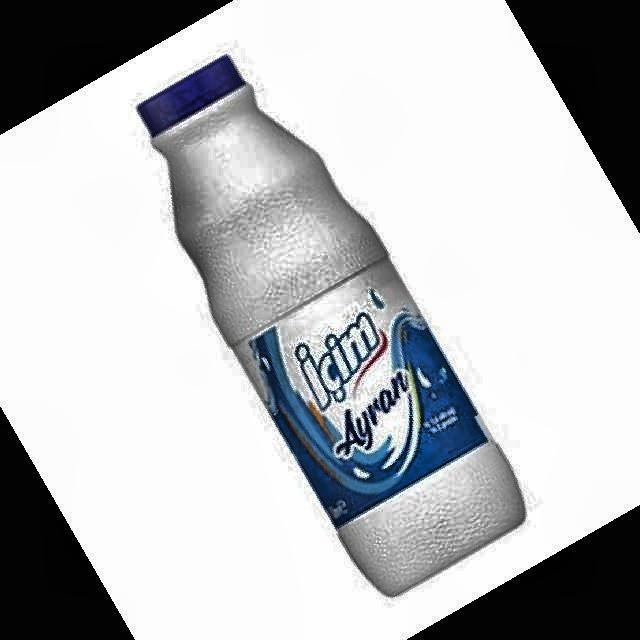plastic: (139, 56, 524, 594)
